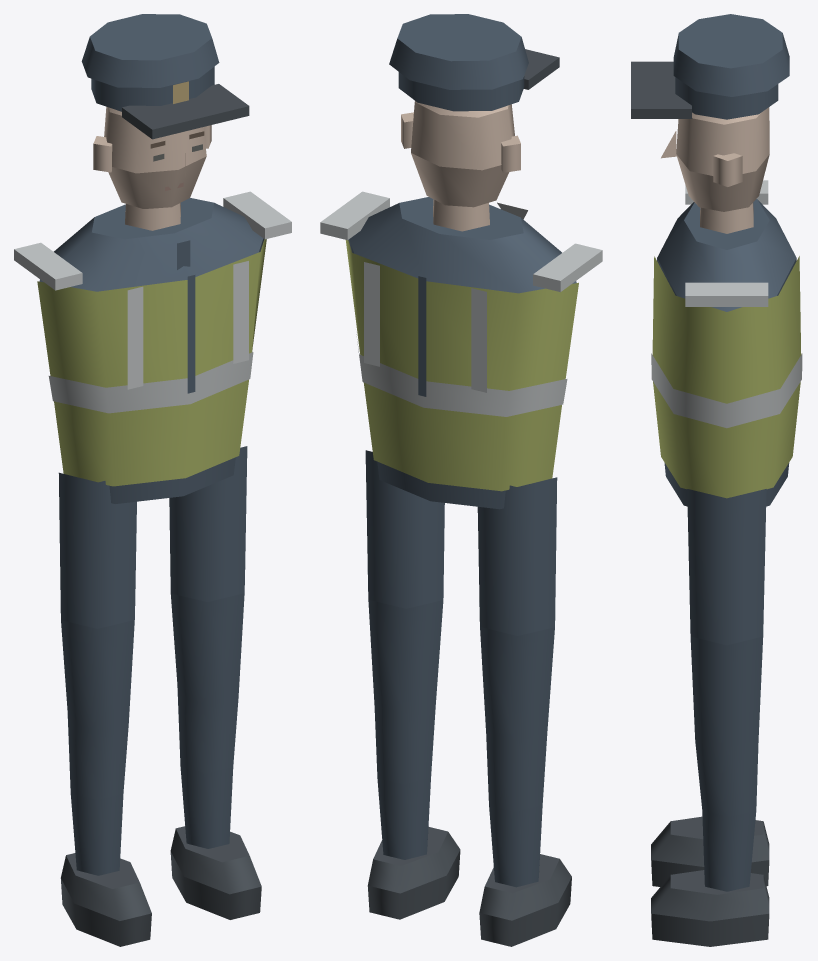
Rendered from officer_body.glb.
The picture shows the model from 3 angles, left to right: view 1: azimuth 30°, elevation 25°; view 2: azimuth 150°, elevation 25°; view 3: azimuth 270°, elevation 25°; orthographic projection.
Visible parts, largest first — view 1: officer_body; view 2: officer_body; view 3: officer_body.
Part boxes in pixels (<box>): officer_body: <box>14,14,291,946</box>; officer_body: <box>320,14,602,946</box>; officer_body: <box>631,14,802,946</box>.
Bounding box in the file's own units: 0.56 × 1.96 × 0.3545.
